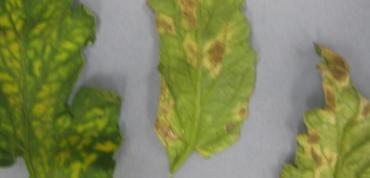Tomato mold leaf: (0, 0, 125, 178), (140, 0, 261, 165), (279, 52, 370, 178)
